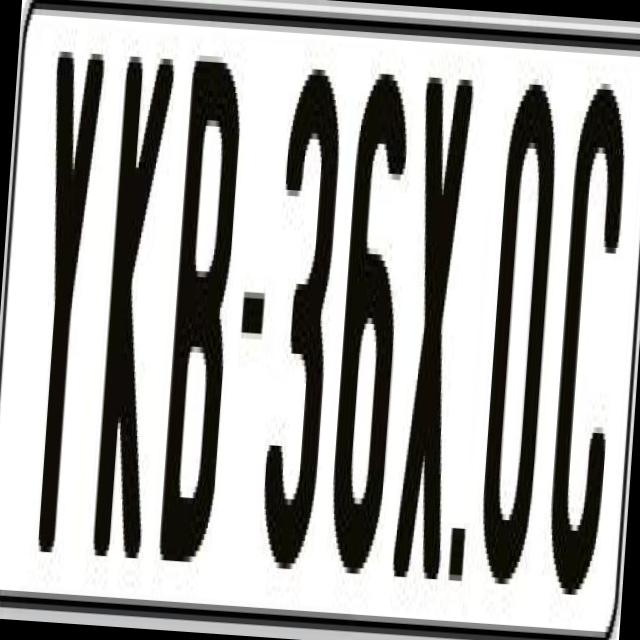0: (474, 71, 560, 580)
3: (252, 61, 344, 599)
6: (325, 60, 416, 592)
B: (152, 42, 248, 581)
C: (544, 81, 640, 596)
K: (92, 39, 176, 558)
X: (388, 71, 477, 597)
Y: (20, 51, 105, 570)
